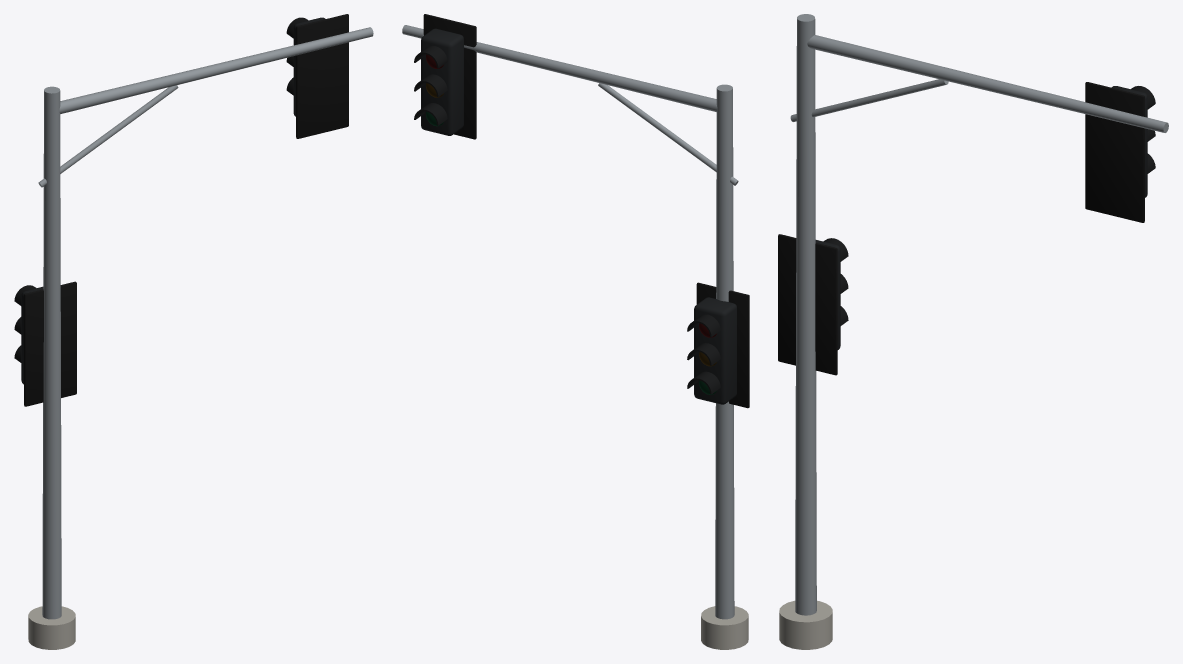
Rendered from TrafficLight.fbx.
The picture shows the model from 3 angles, left to right: view 1: azimuth 30°, elevation 25°; view 2: azimuth 150°, elevation 25°; view 3: azimuth 330°, elevation 25°; orthographic projection. The views are drawn at different scales.
Visible parts, largest first — view 1: TrafficLight_Body; view 2: TrafficLight_Body; view 3: TrafficLight_Body.
Boxes of the visible parts, bbox=[...] form: TrafficLight_Body: bbox=[14, 14, 373, 649]; TrafficLight_Body: bbox=[402, 14, 749, 649]; TrafficLight_Body: bbox=[778, 14, 1168, 649].
Bounding box in the file's own units: 3.68 × 5.62 × 0.69.
